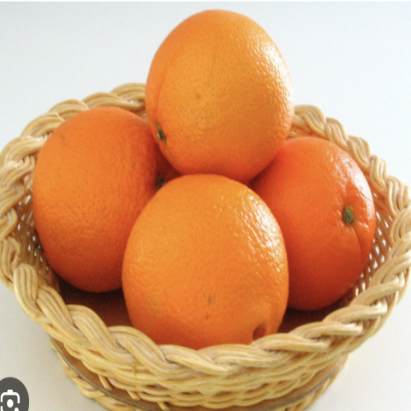orange: (117, 154, 301, 376), (14, 102, 175, 288), (135, 0, 294, 169), (243, 128, 389, 284)
